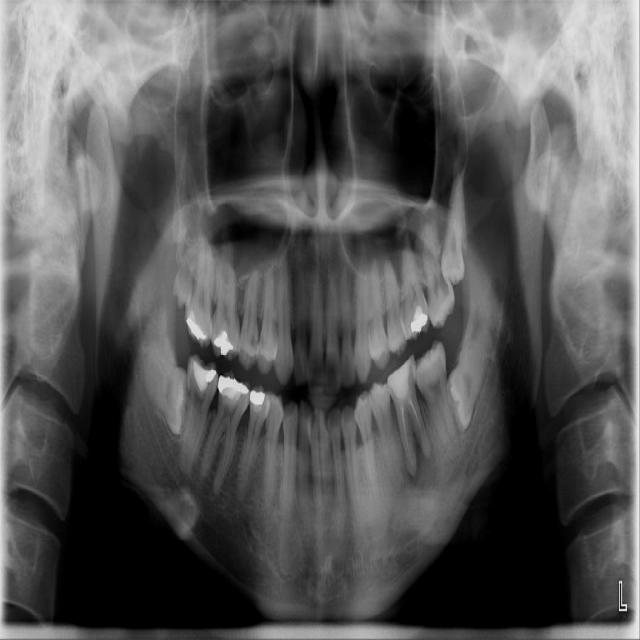Filling: (387, 356, 416, 411), (217, 375, 249, 400), (185, 314, 209, 345), (408, 306, 432, 336), (190, 361, 216, 388), (215, 327, 238, 357), (246, 388, 267, 405)
Periapical lesion: (404, 433, 419, 484), (420, 439, 435, 463)
Root Canal Treatment: (407, 399, 425, 447), (400, 402, 408, 449)
impacted tooth: (447, 323, 492, 426), (143, 339, 185, 432), (440, 171, 464, 285), (174, 237, 201, 310)
